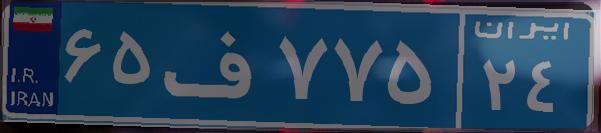2: (475, 38, 525, 113)
4: (525, 38, 570, 115)
5: (385, 28, 445, 110), (110, 28, 158, 105)
6: (57, 26, 110, 107)
7: (273, 28, 330, 110), (330, 28, 385, 110)
ف: (158, 15, 273, 115)
